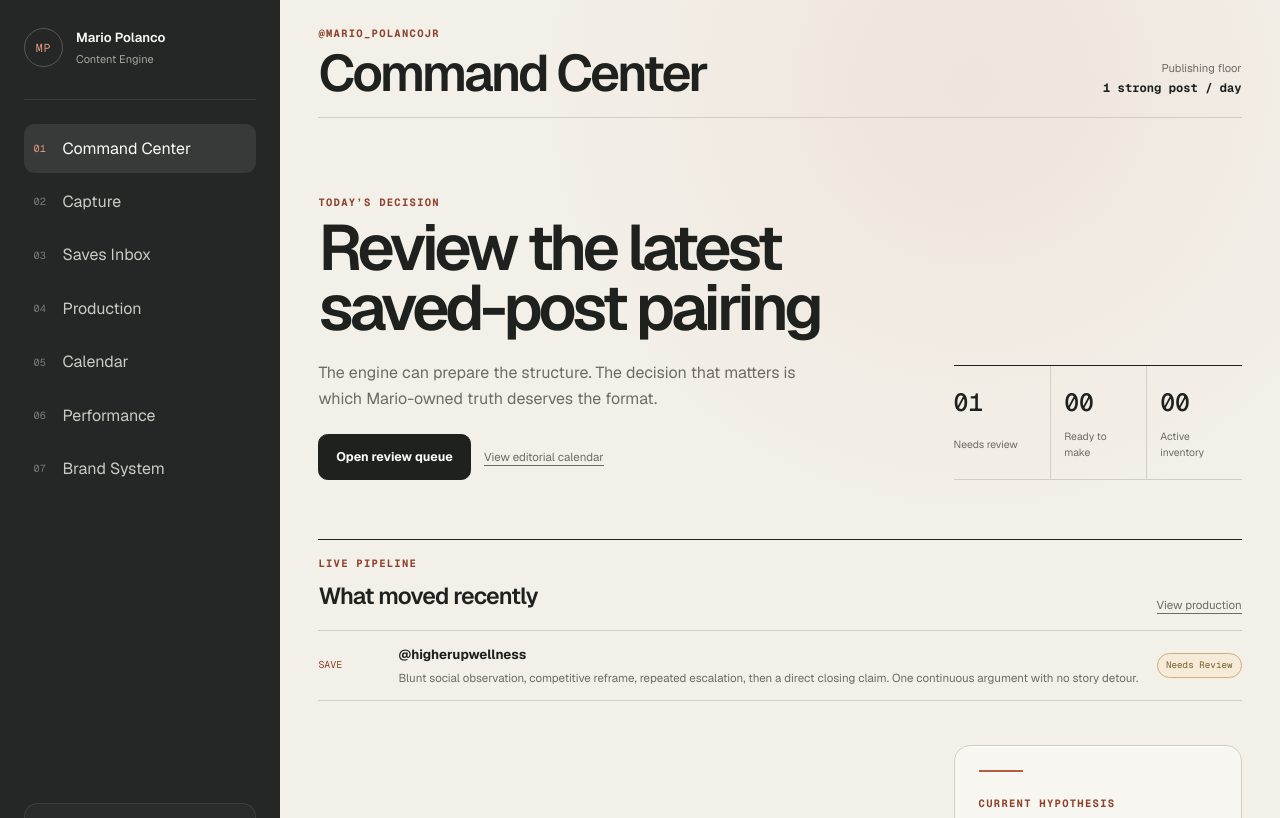
Scenario: Live brand source inventory › keeps the raw capture visible when strict factual extraction fails
Click the button "02 Capture". click: (140,202)
box: [24, 178, 256, 226]
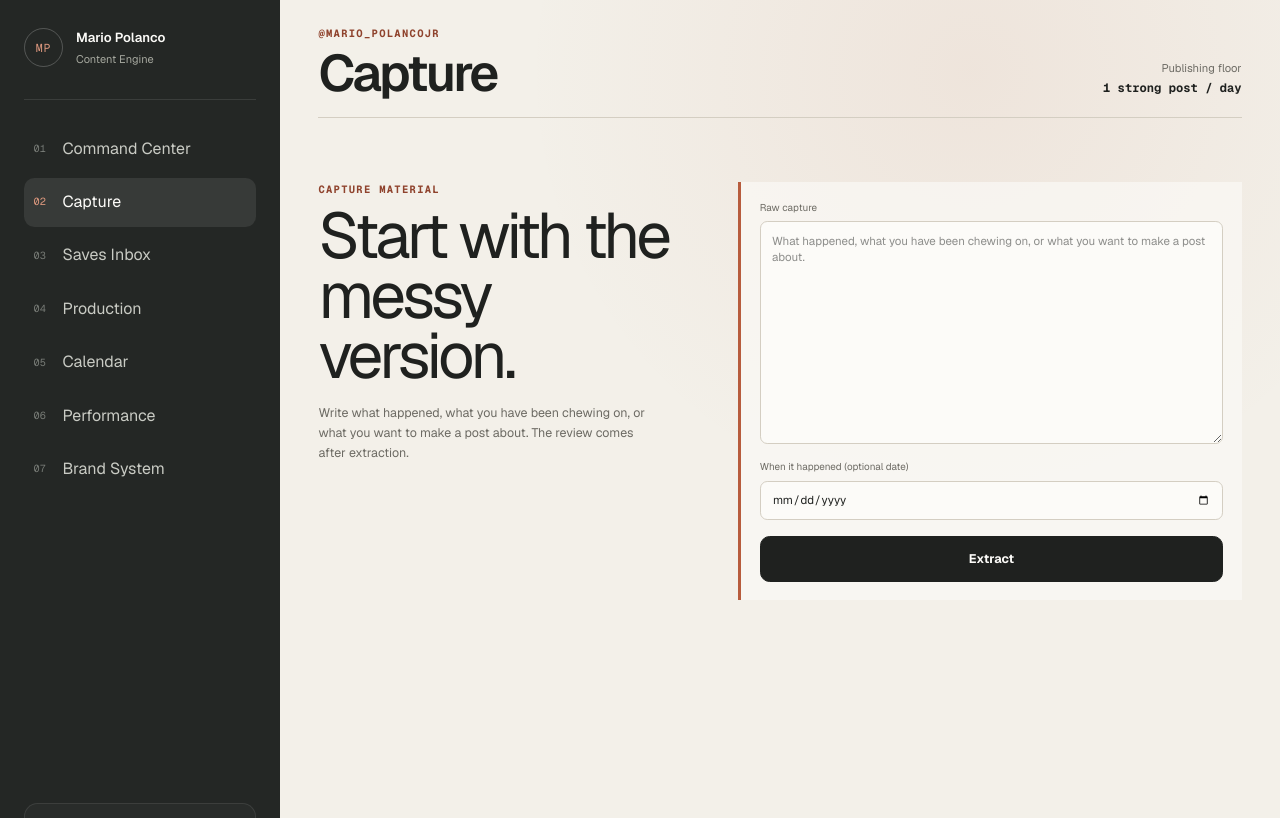
Replace the text in the text box named "Raw source" with "The event that needs a clearer detail.". click: (991,333)
box: [760, 221, 1223, 444]
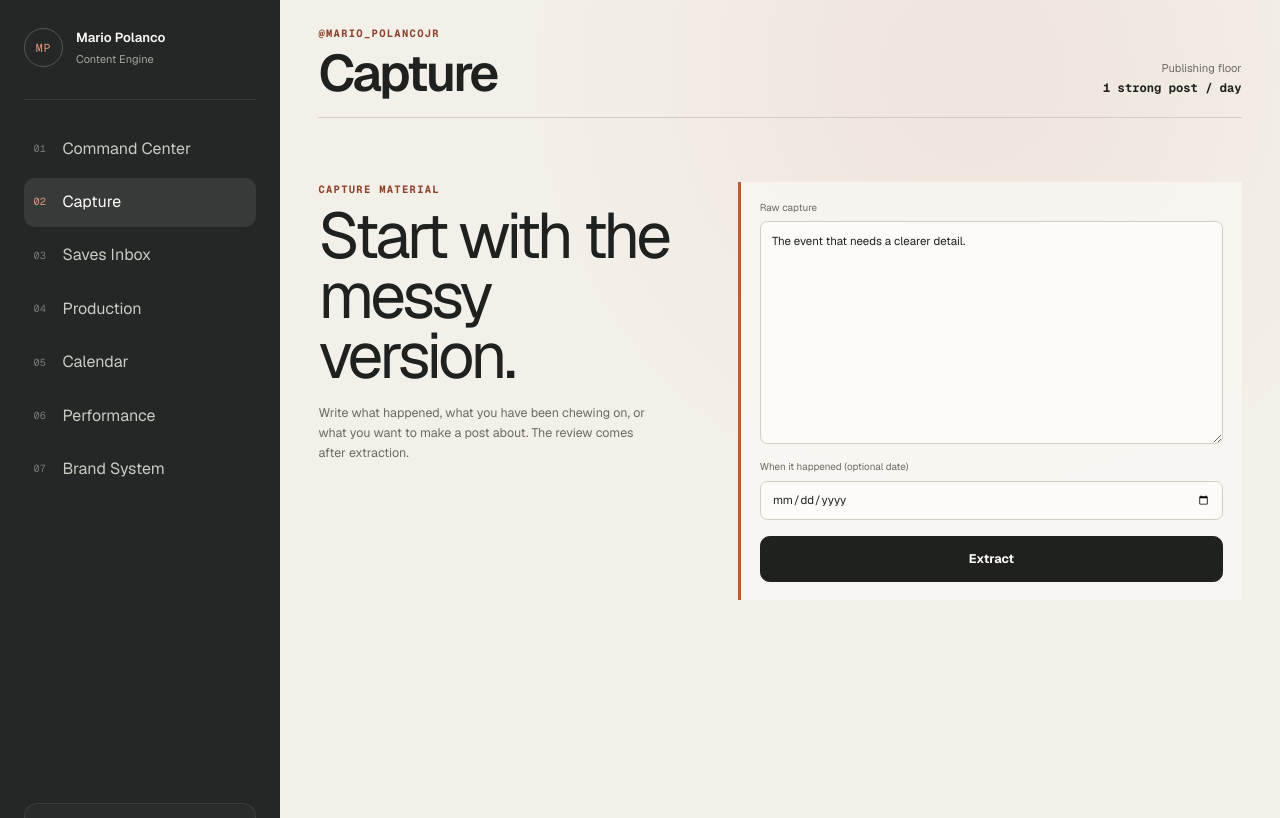
Click the button "Extract". click: (991,559)
box: [760, 536, 1223, 582]
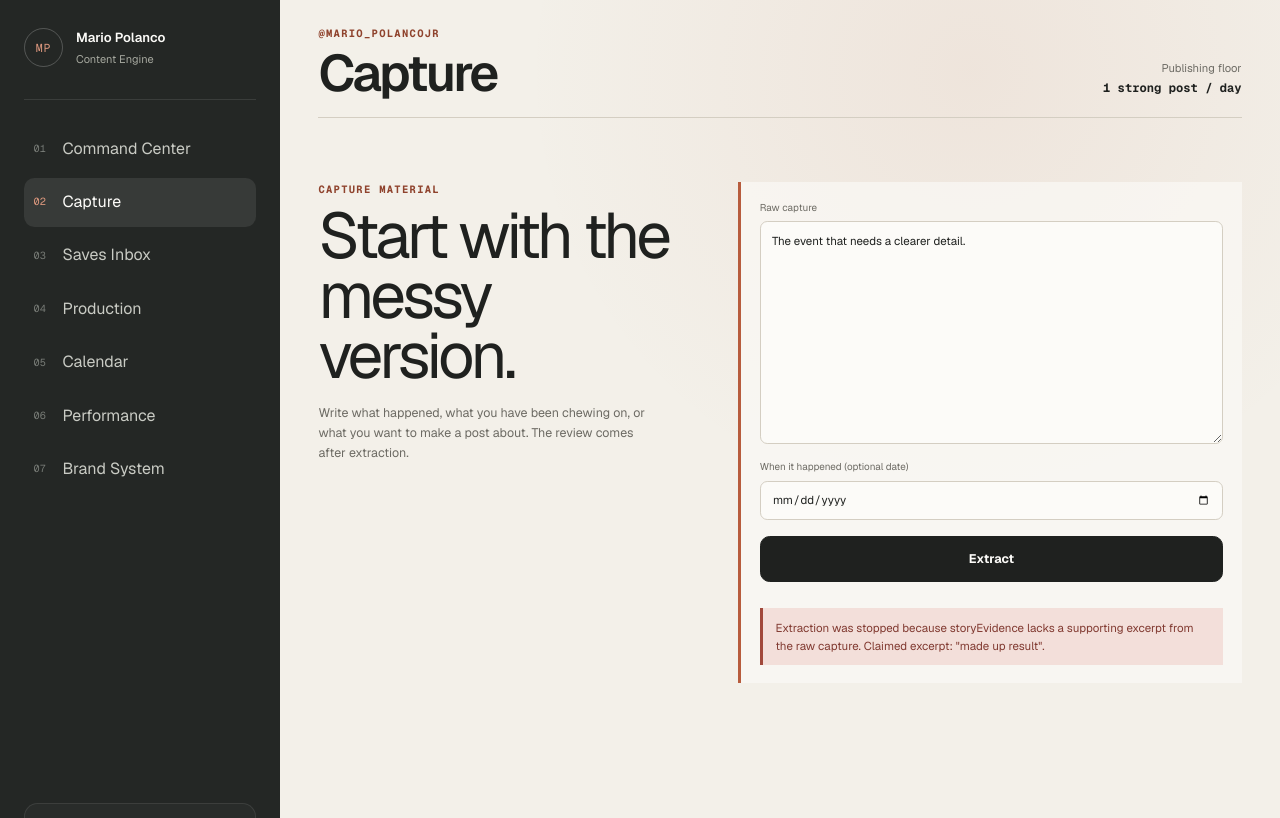
Expected: the message shows "Claimed excerpt: \"made up result\"", [776, 620, 1194, 653]
